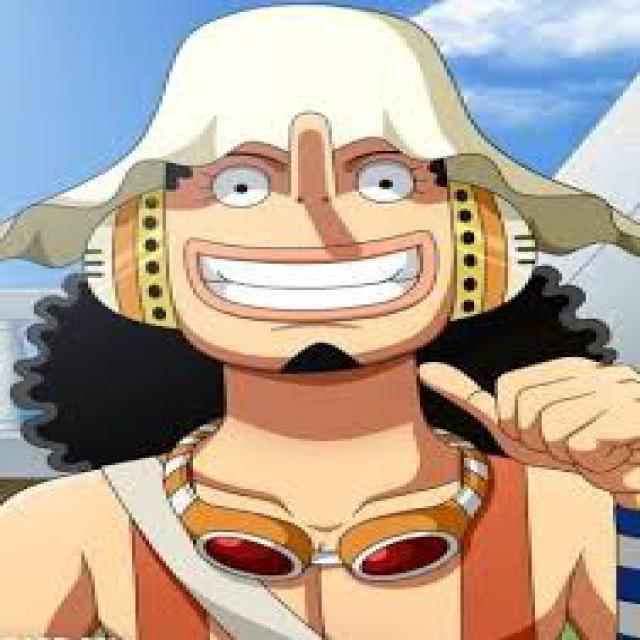Usopp: (0, 2, 640, 640)
